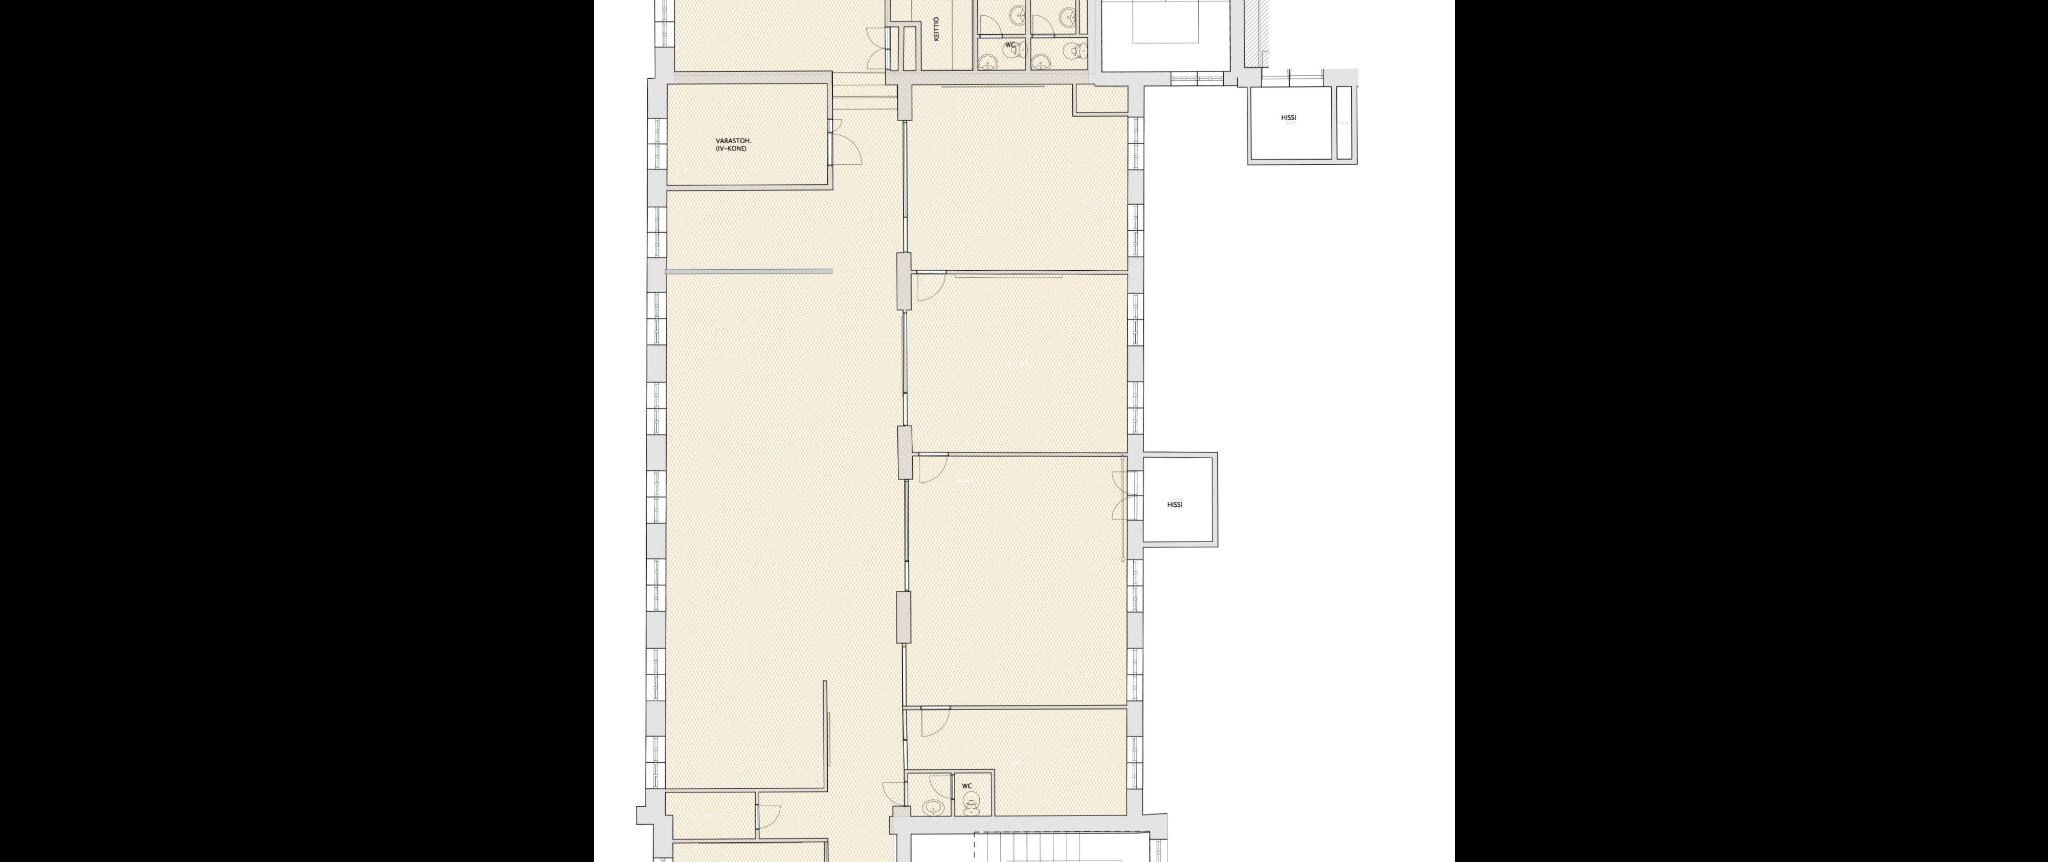door: (913, 443, 951, 490), (916, 699, 955, 741), (747, 798, 788, 835), (1108, 465, 1149, 499), (823, 136, 862, 171), (1108, 494, 1148, 528), (913, 268, 950, 304), (879, 774, 916, 810), (865, 22, 901, 51), (862, 48, 899, 73)
window: (636, 640, 678, 709), (640, 367, 674, 445), (637, 729, 674, 794), (1258, 61, 1324, 97), (640, 282, 671, 357), (639, 461, 673, 526), (1121, 287, 1153, 355), (1118, 725, 1149, 795), (1122, 196, 1153, 265), (1122, 372, 1152, 444), (1119, 554, 1151, 622), (1119, 637, 1151, 703), (640, 552, 671, 618), (1125, 104, 1152, 178), (1162, 63, 1230, 91), (640, 204, 671, 265), (647, 0, 678, 59), (643, 115, 670, 172), (1142, 831, 1170, 862)
